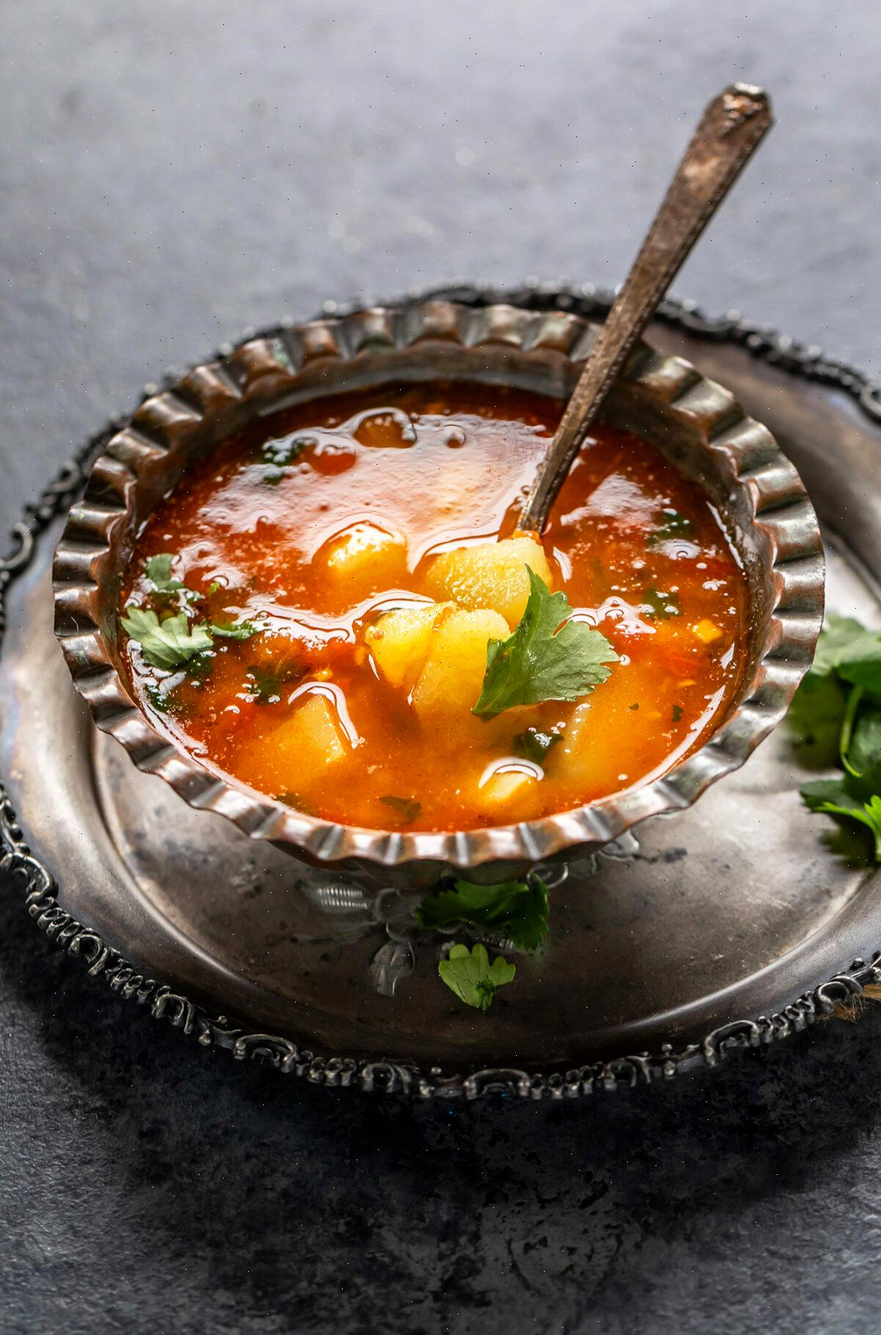aloo sabji: (141, 394, 762, 847)
